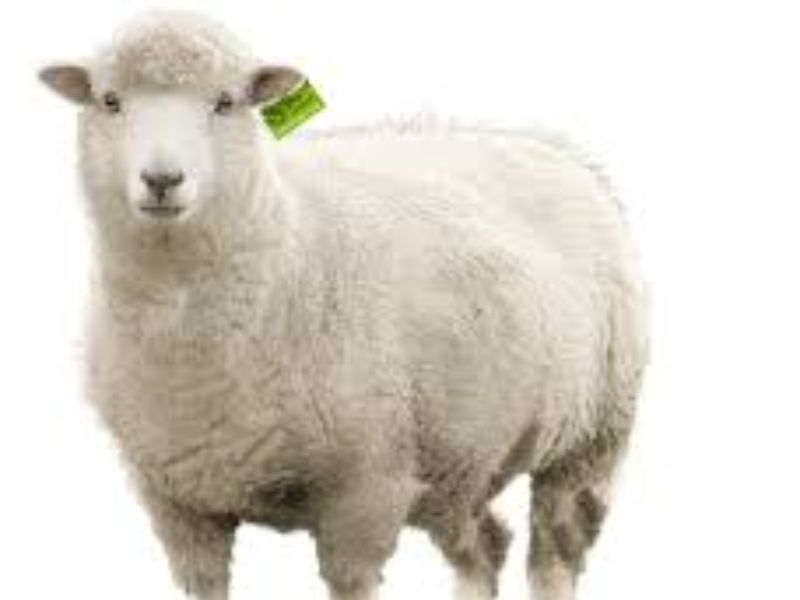sheep: (31, 4, 701, 600)
